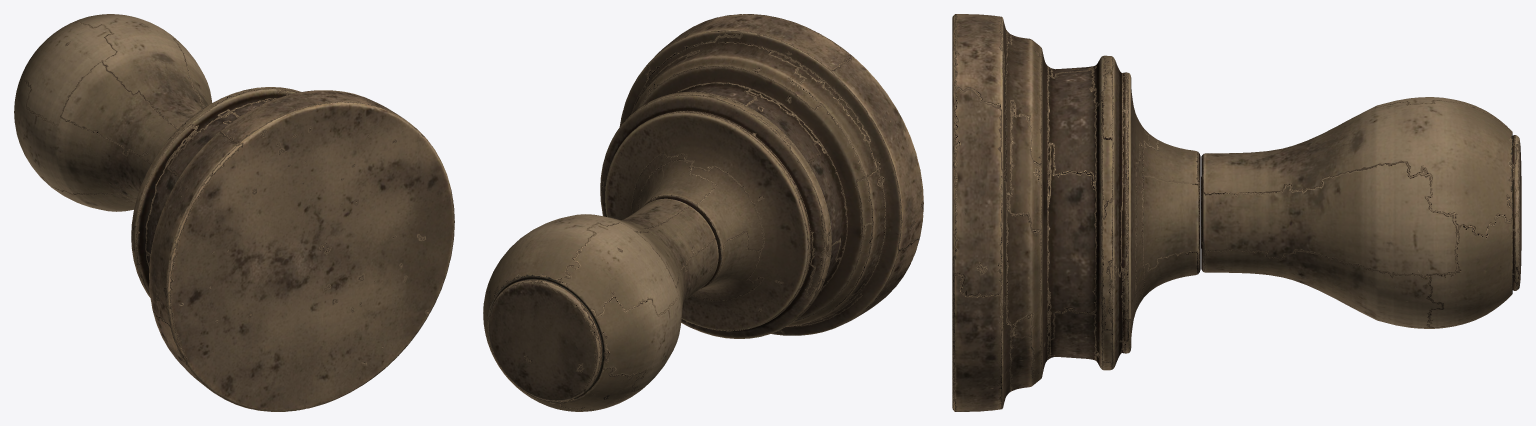
3 views of the same model, side by side, from view 1: azimuth 30°, elevation 25°; view 2: azimuth 150°, elevation 25°; view 3: azimuth 270°, elevation 25° (orthographic). The views are drawn at different scales.
Bounding box in the file's own units: 1.15 × 1.15 × 1.65.
1 material, 1 textured.
